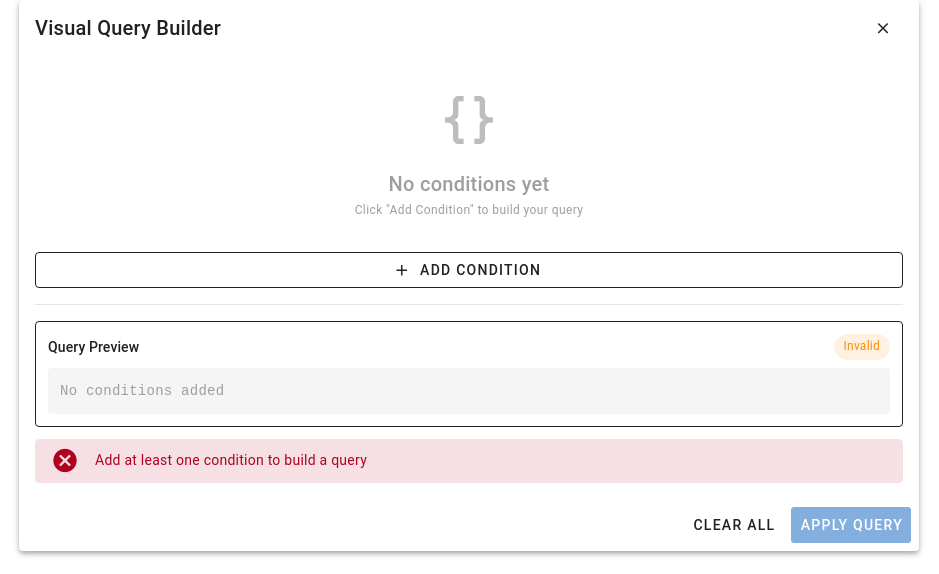
Test: QueryBuilder Component › Condition Management › shows empty state when all conditions removed
Click the button with test id "add-condition-btn" at (469,270), box [35, 252, 903, 288]
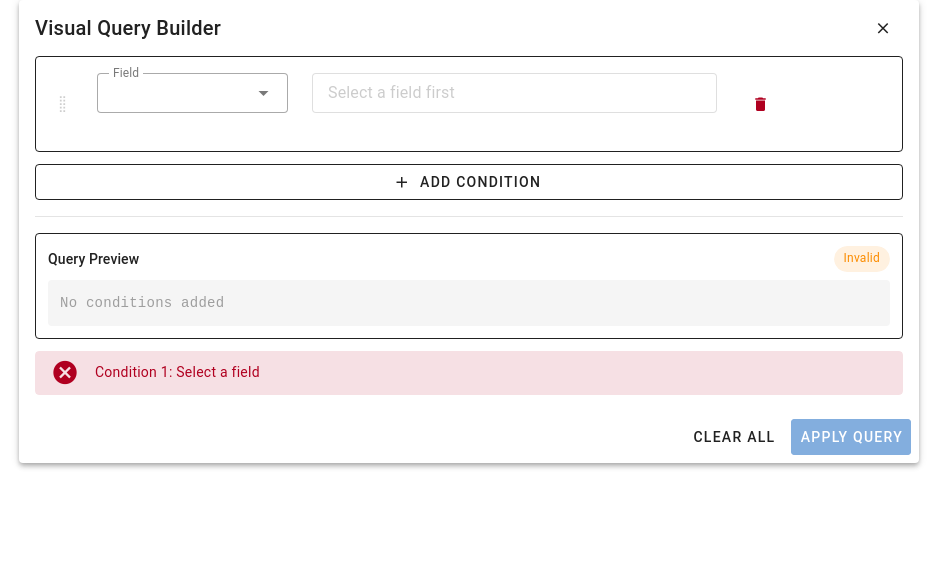
Click the button with test id "remove-condition-btn" at (760,104), box [740, 84, 780, 124]
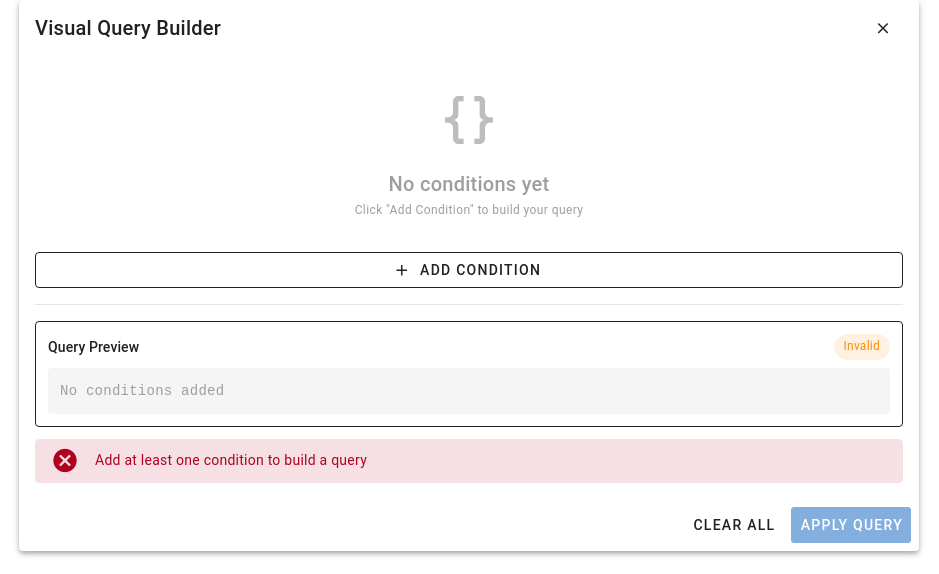
Result: the element with test id "empty-state" is shown at [355, 88, 583, 217]
